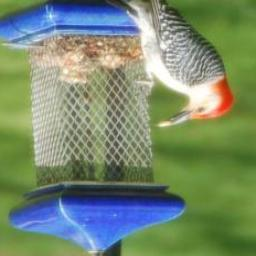Woodpecker: (78, 0, 234, 134)
